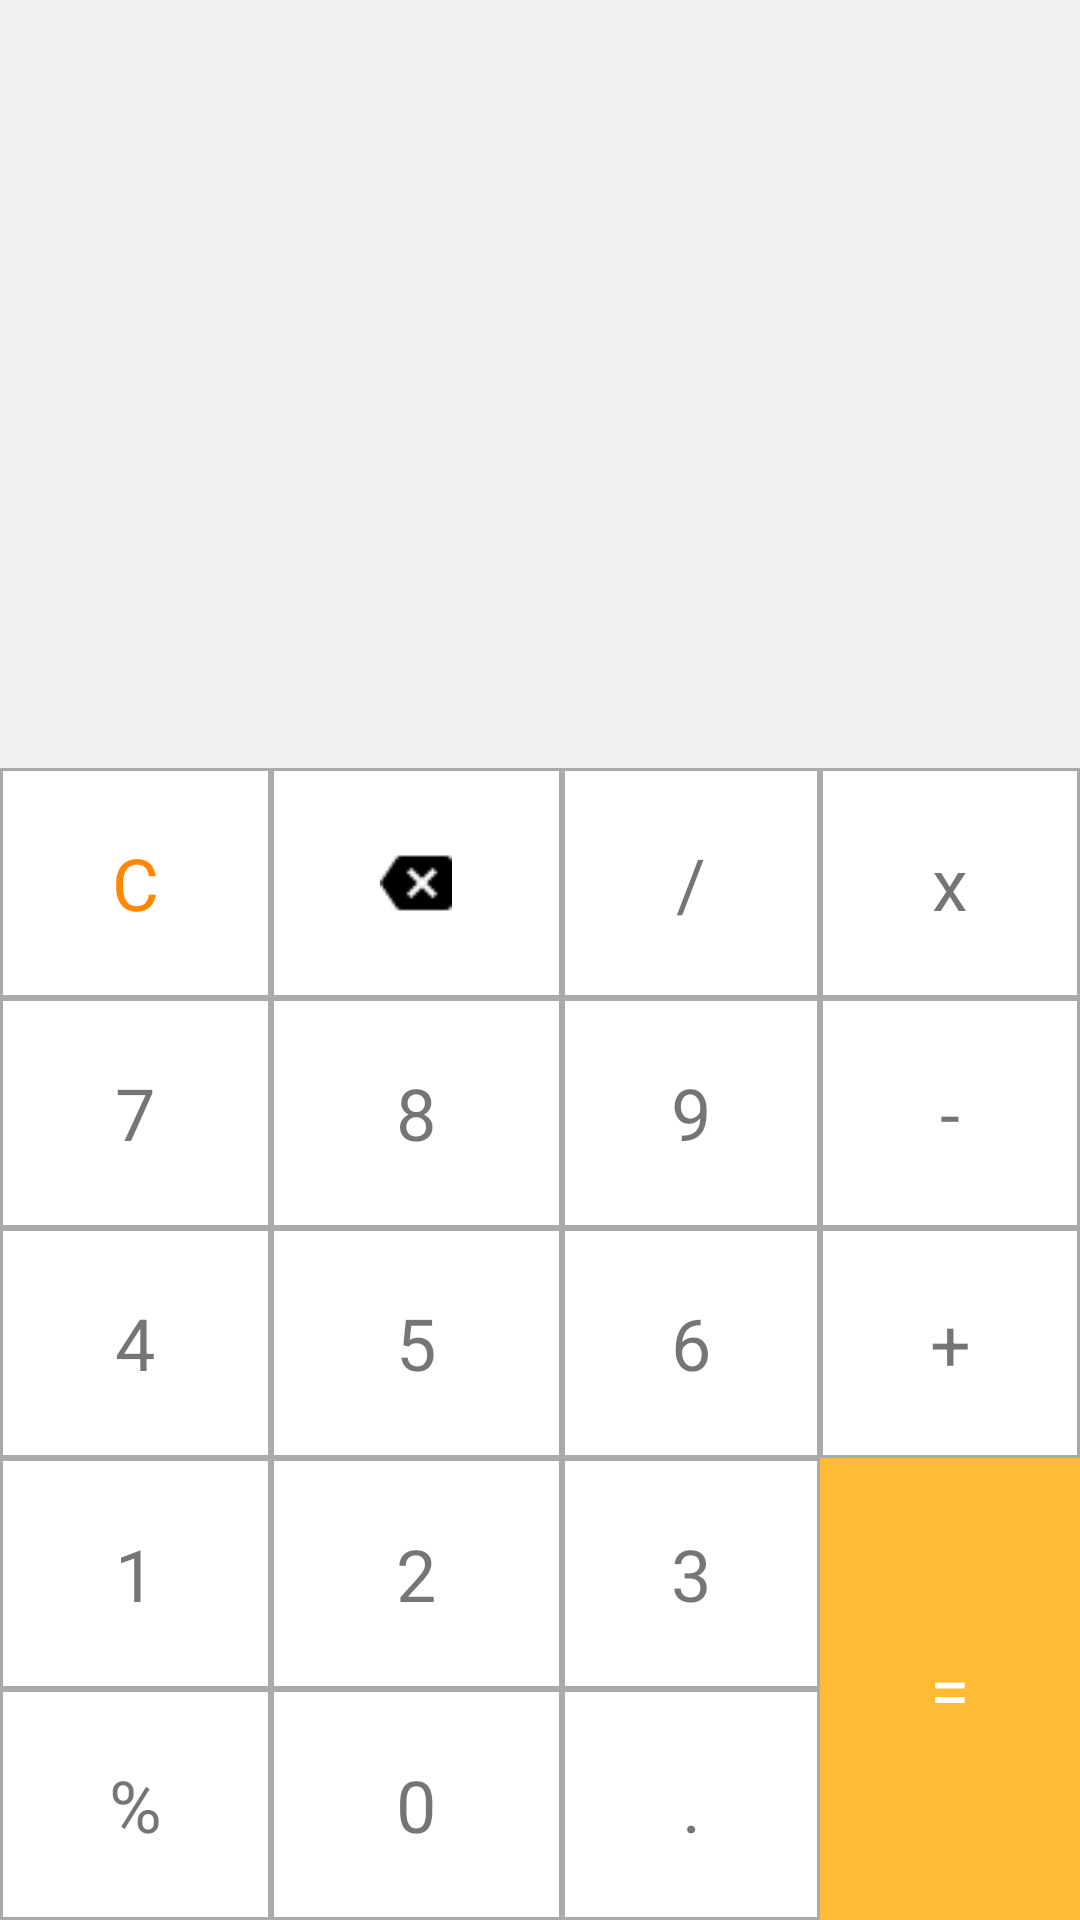

Locate icon controls on the screen. Image size 1080w x 1920h, boxes as (x1, y1, x2, y2).
backspace: (380, 855, 452, 911)
